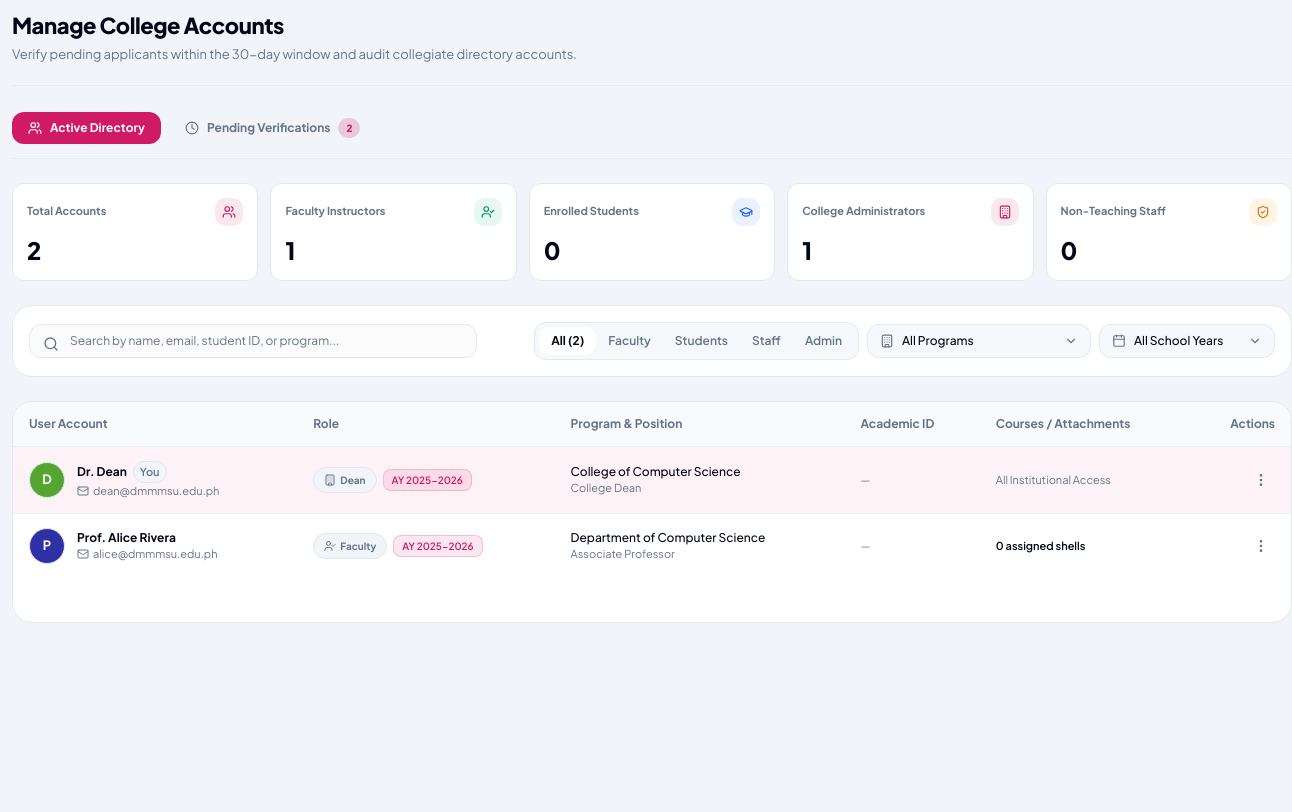
it: ManageAccountsPage RBAC & Verification Queue › 4. verifies Dean sees pending applicants across the college
The width and height of the screenshot is (1292, 812).
Click the tab "Pending Verifications 2". click: (273, 128)
box: [169,110,376,146]
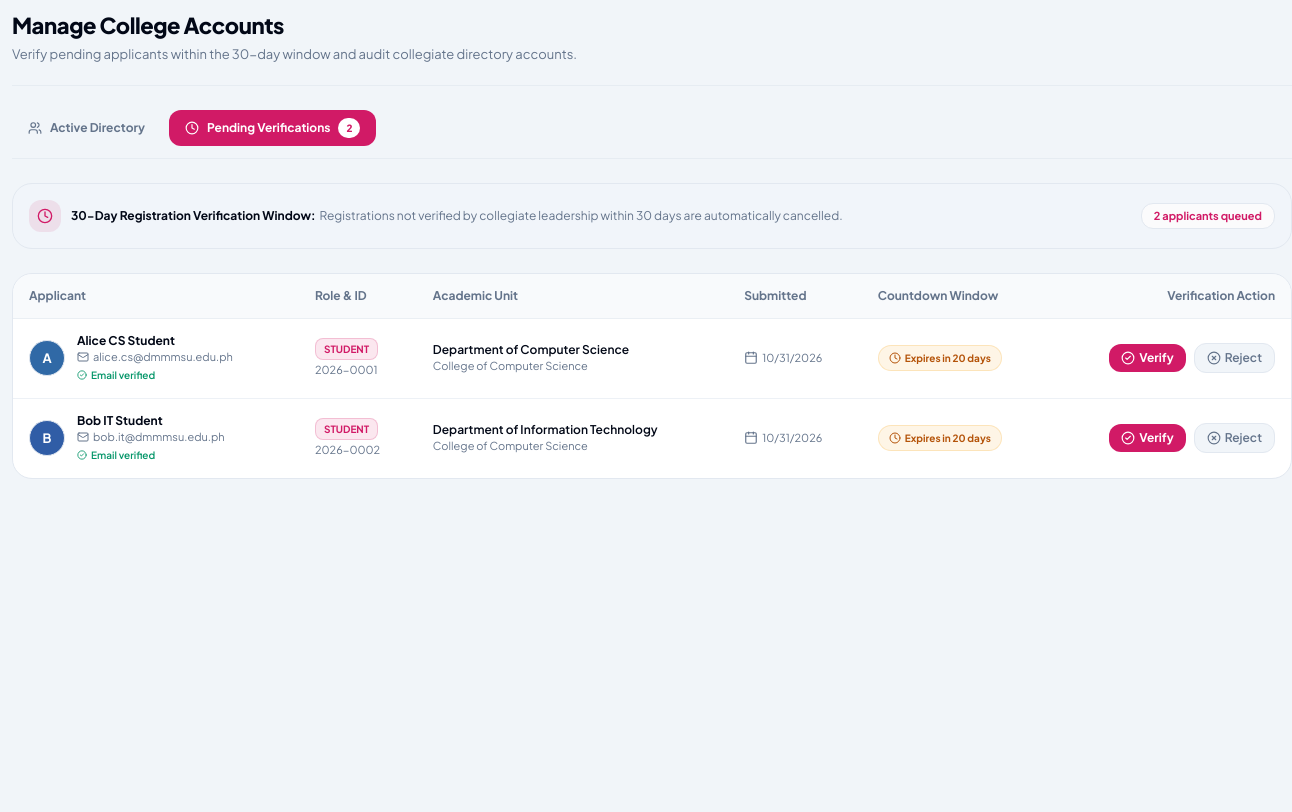
Check: the text "Alice CS Student" is shown, box [77,333,175,348]
Check: the text "Bob IT Student" is shown, box [77,413,163,428]
